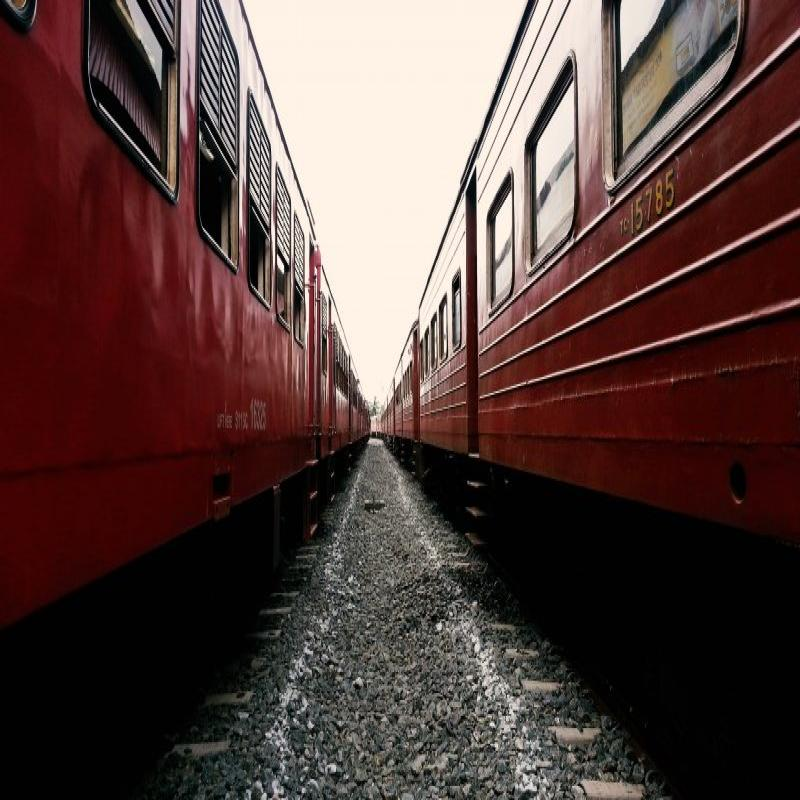train: (469, 16, 800, 696), (0, 8, 240, 766), (251, 174, 349, 510), (395, 290, 469, 469)
